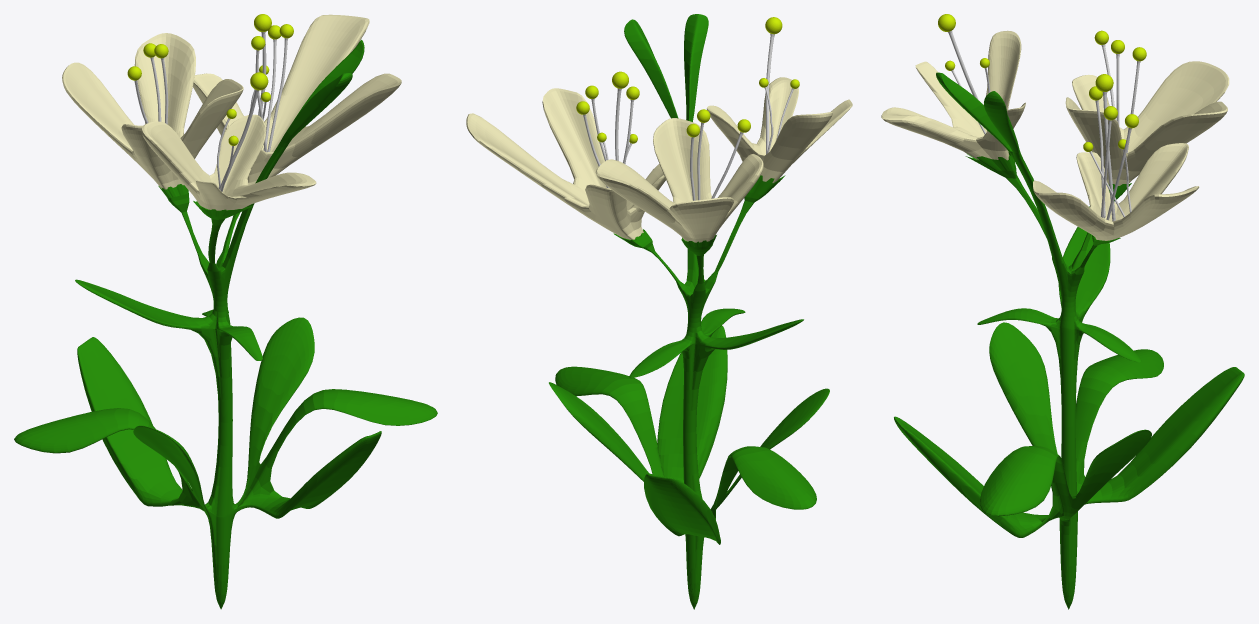
Rendered from honeysuckle.fbx.
3 renders of one model, left to right at view 1: azimuth 30°, elevation 25°; view 2: azimuth 150°, elevation 25°; view 3: azimuth 270°, elevation 25°, orthographic. The views are drawn at different scales.
Parts seen in each view (by area): view 1: Cylinder, Sphere; view 2: Cylinder, Sphere; view 3: Cylinder, Sphere.
Boxes of the visible parts, bbox=[...] form: Cylinder: bbox=[14, 14, 437, 609]; Sphere: bbox=[127, 14, 293, 191]; Cylinder: bbox=[466, 14, 852, 609]; Sphere: bbox=[576, 17, 799, 200]; Cylinder: bbox=[881, 30, 1244, 609]; Sphere: bbox=[938, 14, 1146, 221].
Bounding box in the file's own units: 445 × 695 × 392.
